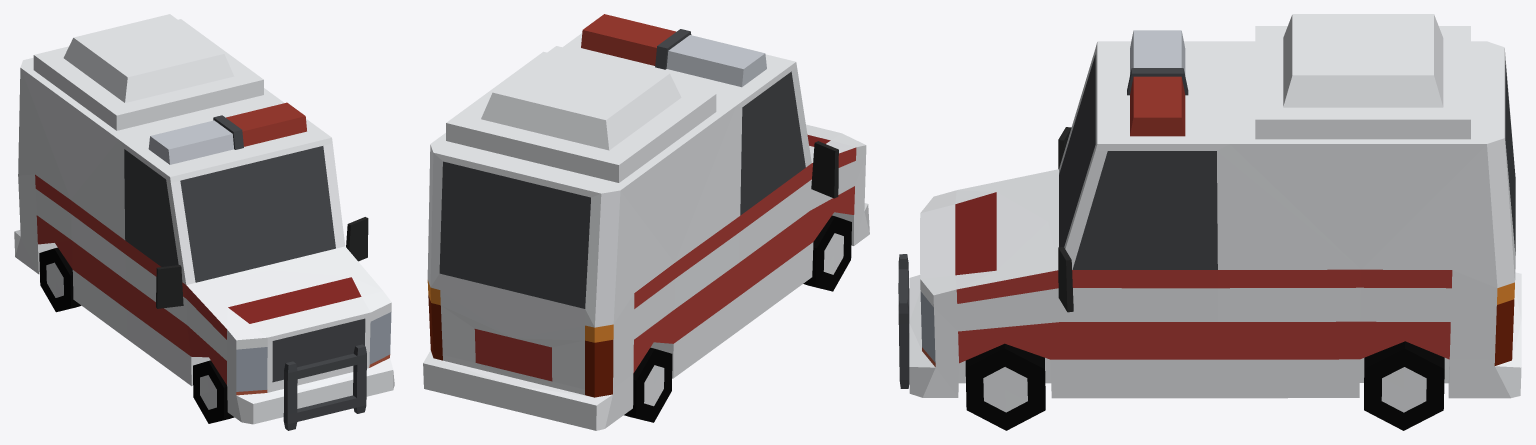
File: Vehicles_Ambulance.fbx
3 views of the same model, side by side, from view 1: azimuth 30°, elevation 25°; view 2: azimuth 150°, elevation 25°; view 3: azimuth 270°, elevation 25° (orthographic). The views are drawn at different scales.
Parts seen in each view (by area): view 1: Vehicles_Ambulance; view 2: Vehicles_Ambulance; view 3: Vehicles_Ambulance.
Boxes of the visible parts, box(x1,y1,x2,y2) form: Vehicles_Ambulance: box(14, 14, 394, 430); Vehicles_Ambulance: box(423, 14, 869, 430); Vehicles_Ambulance: box(898, 14, 1521, 430).
Size of the model in its own units: 227 by 267 by 447.
